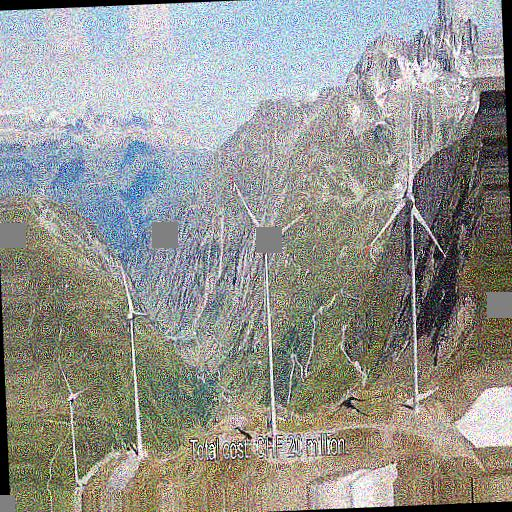wind turbine: (369, 109, 450, 409), (233, 179, 306, 427), (117, 265, 151, 454)
